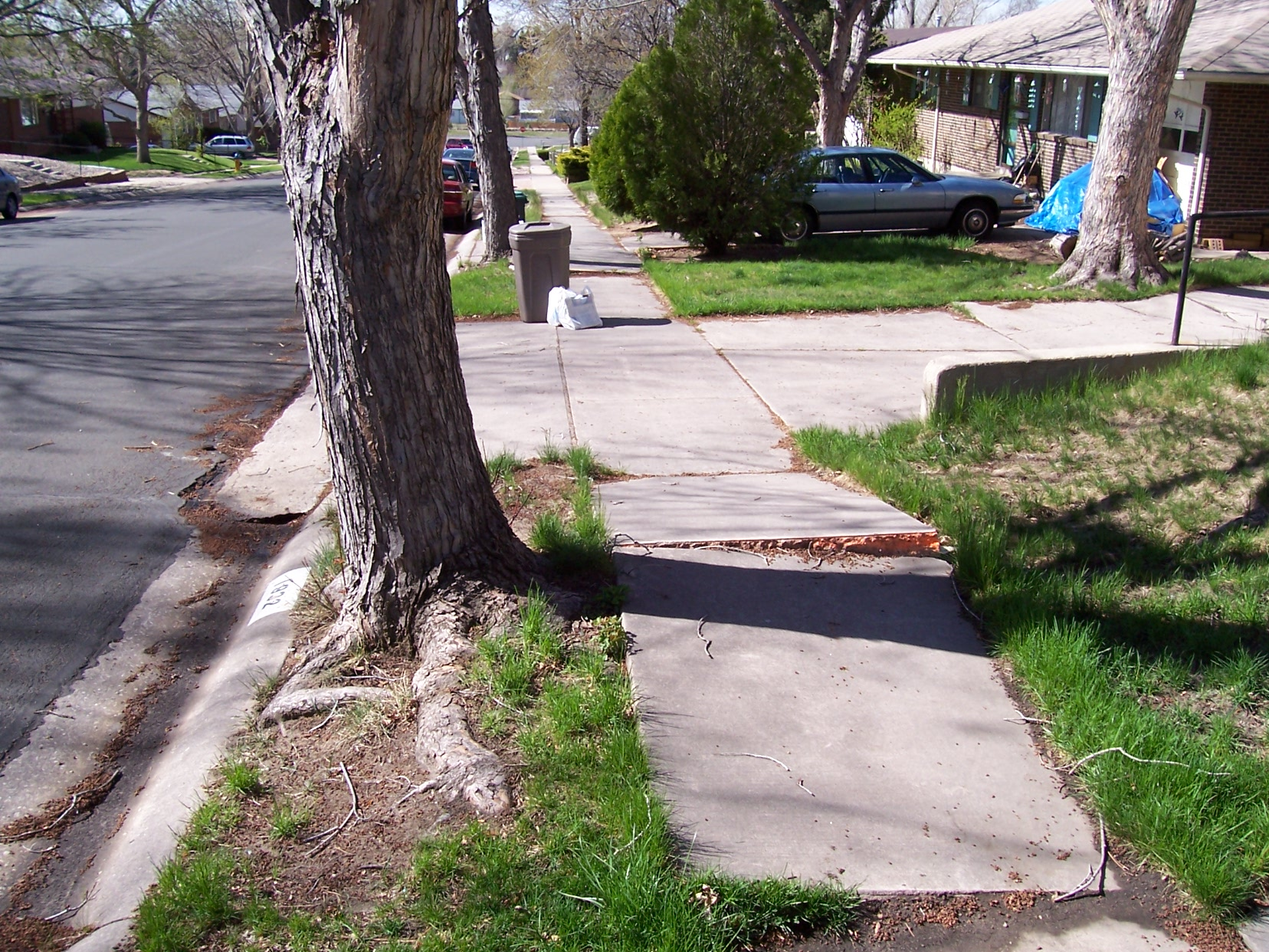Car: (793, 136, 1045, 254), (192, 135, 261, 169)
Tree: (568, 1, 821, 288)
